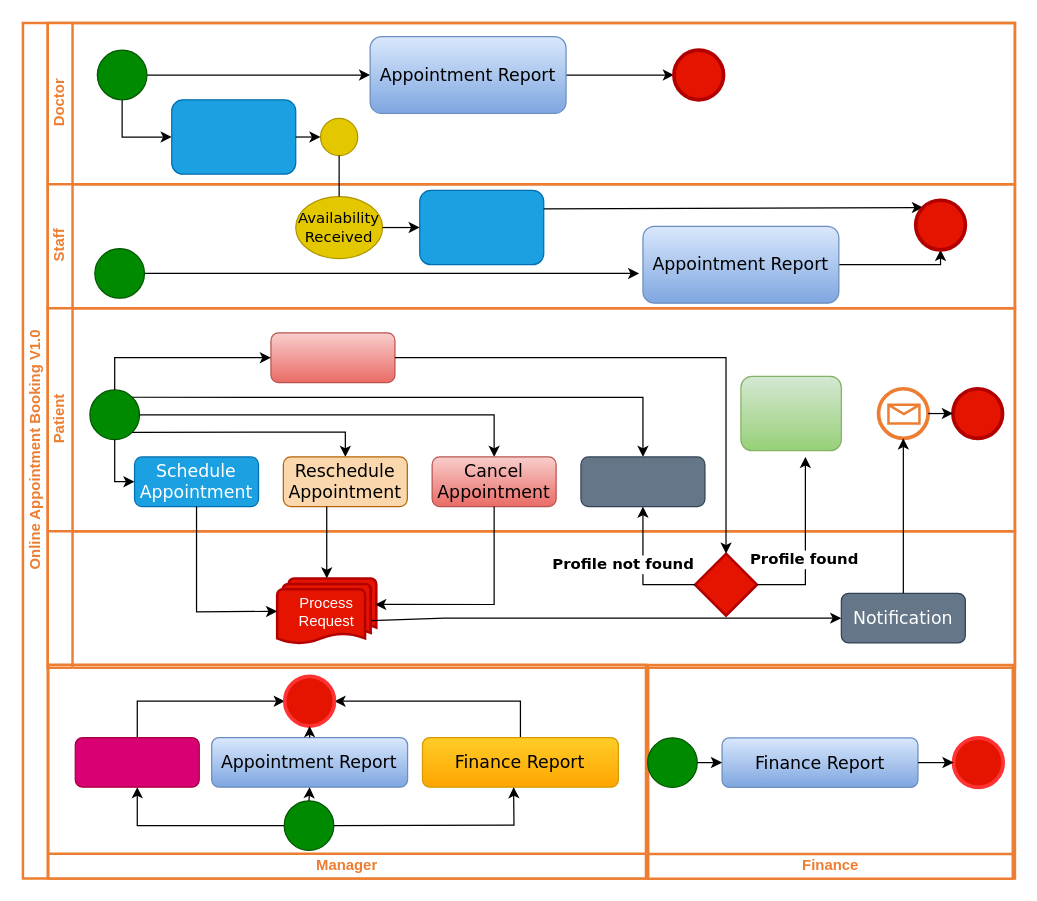
This 1037x901 diagram has some shape labels left out. Here are the shapes that lost their labels. From the top down, the box of each, then its label:
(170, 99, 296, 174): Schedule Availability
(319, 117, 358, 156): Save
(418, 189, 544, 265): Create Schedule
(270, 332, 395, 383): View History
(740, 375, 841, 451): Appointment History
(580, 456, 705, 507): Create Profile
(46, 529, 1016, 668): System
(74, 736, 199, 787): Manage User
